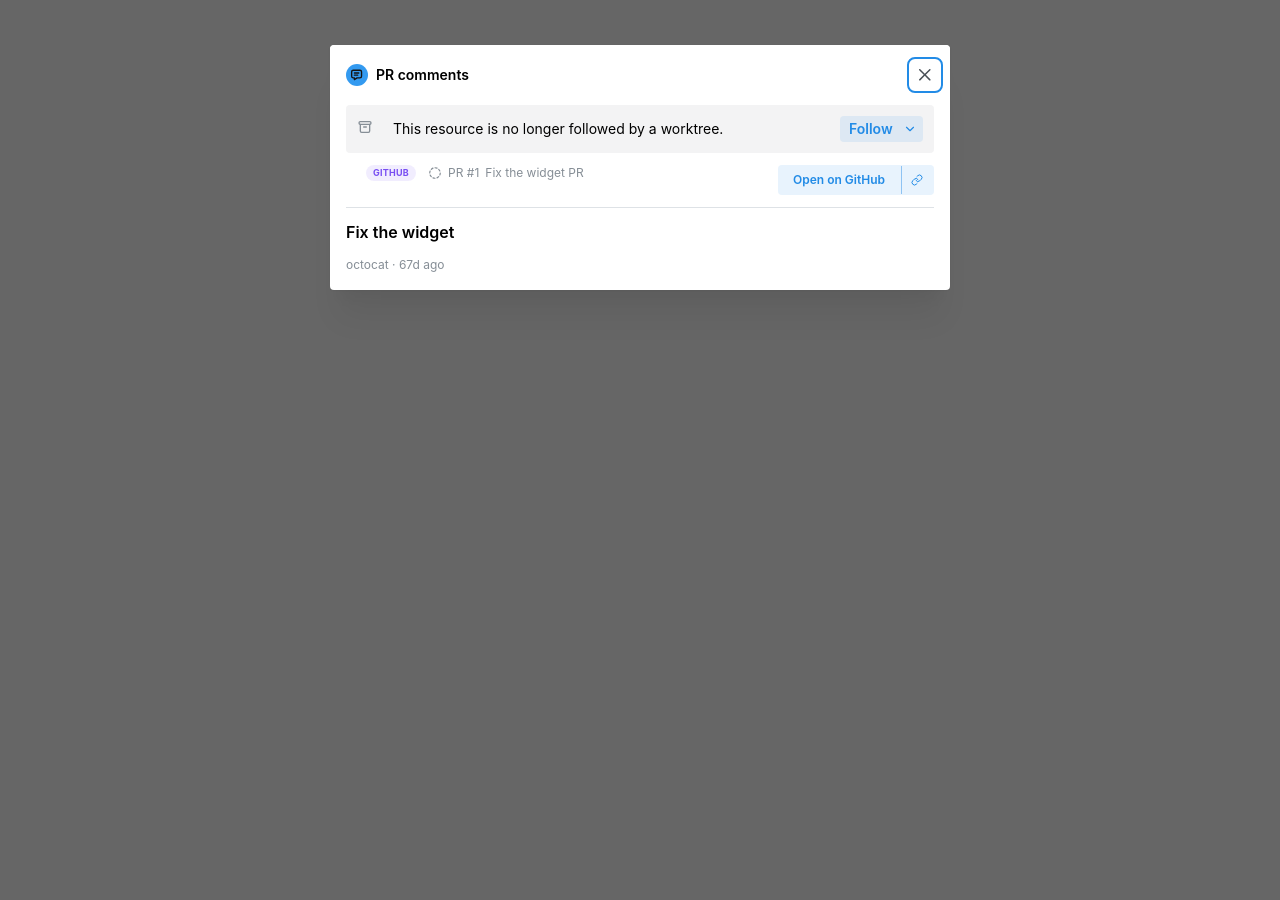
EventDetailsModal for an archived resource › says nothing follows it, and offers worktrees with their cmux workspaces
Expected: the text "This resource is no longer followed by a worktree." is shown, 393,119 -> 723,139
Click the button "Follow": (882, 129) 840,116 -> 923,142
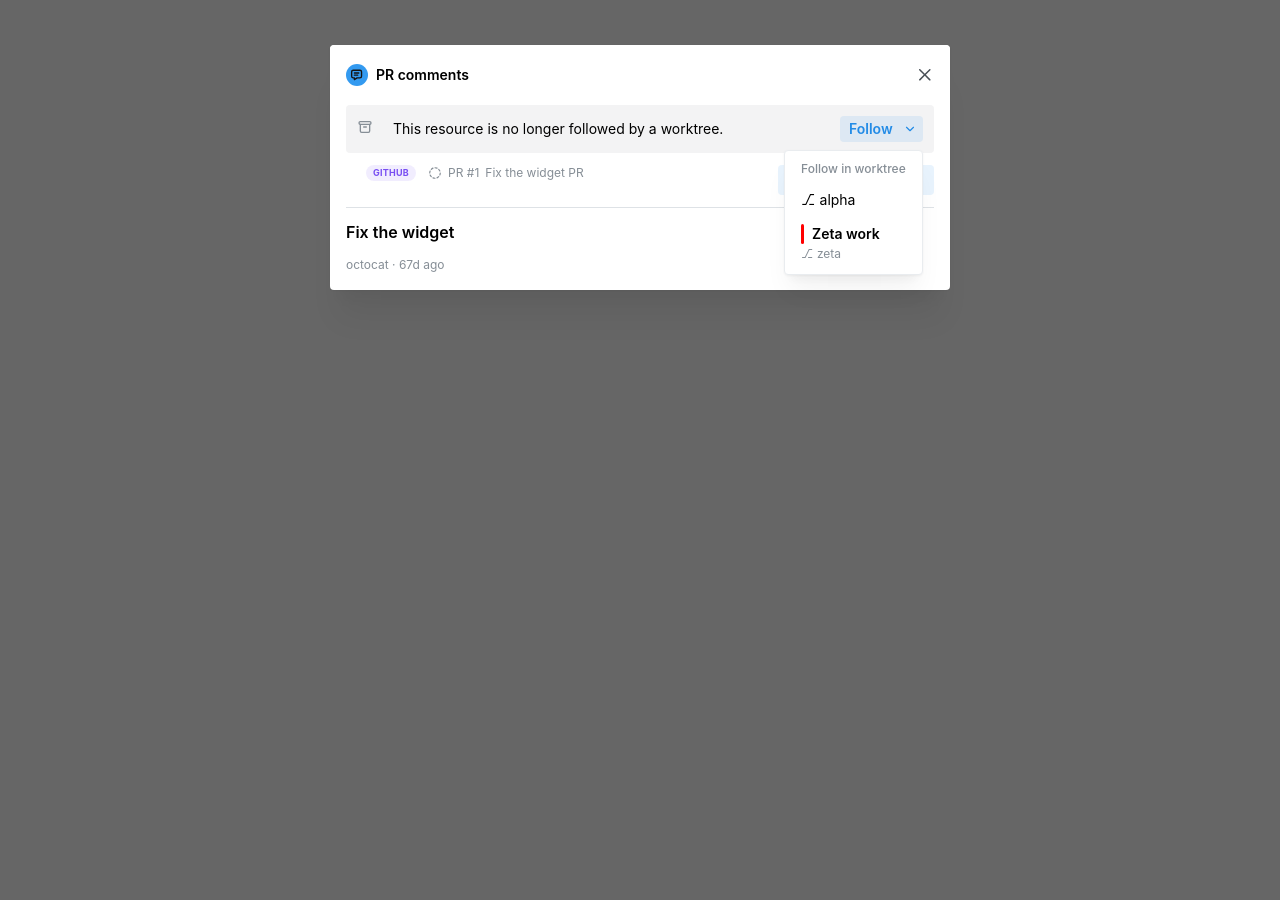
Result: the menu items read "⎇alpha", "Zeta work⎇zeta", in this order at 789,184 -> 918,217; 789,217 -> 918,270
